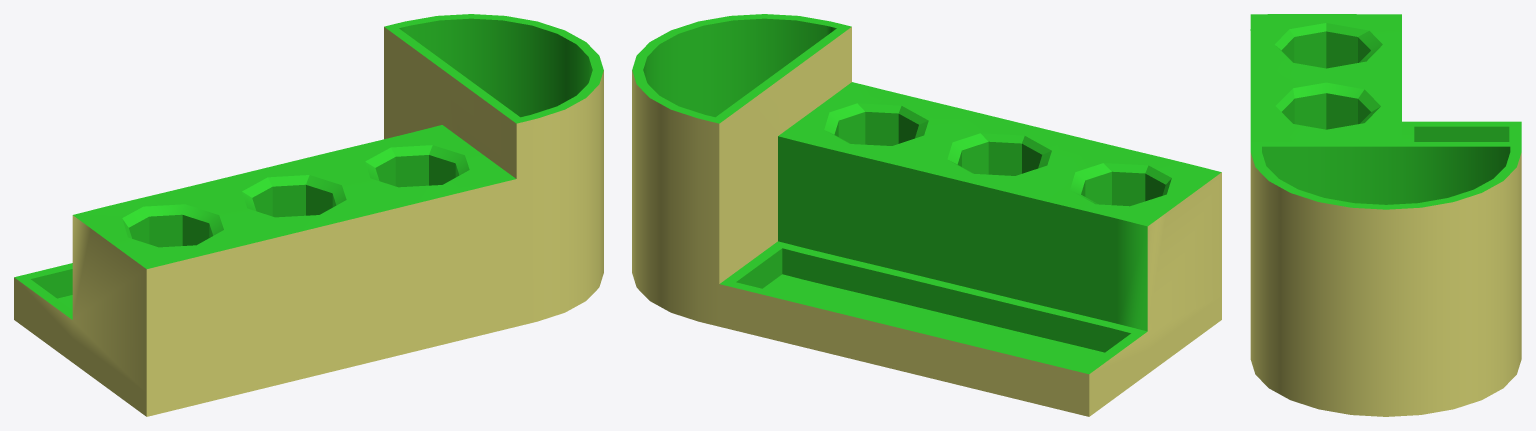
File: chopstick_holder.fbx
The picture shows the model from 3 angles, left to right: view 1: azimuth 30°, elevation 25°; view 2: azimuth 150°, elevation 25°; view 3: azimuth 270°, elevation 25°; orthographic projection. The views are drawn at different scales.
Visible parts, largest first — view 1: Chopstick Holder; view 2: Chopstick Holder; view 3: Chopstick Holder.
Part boxes in pixels (<box>): Chopstick Holder: <box>14,14,603,416</box>; Chopstick Holder: <box>632,14,1221,416</box>; Chopstick Holder: <box>1250,14,1521,416</box>.
Bounding box in the file's own units: 53.28 × 20.44 × 24.21.
1 material, 1 textured.
